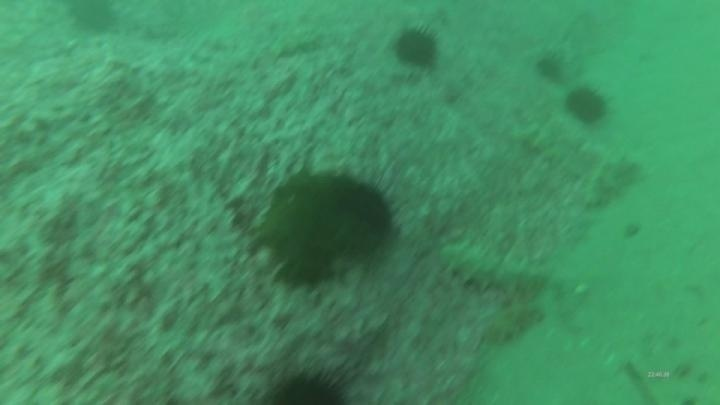echinus: (260, 363, 356, 404), (391, 23, 442, 71), (563, 83, 612, 128), (64, 1, 121, 38), (532, 51, 567, 85)
holothurian: (515, 113, 637, 209), (436, 235, 550, 299), (579, 150, 644, 212), (478, 297, 547, 347)
